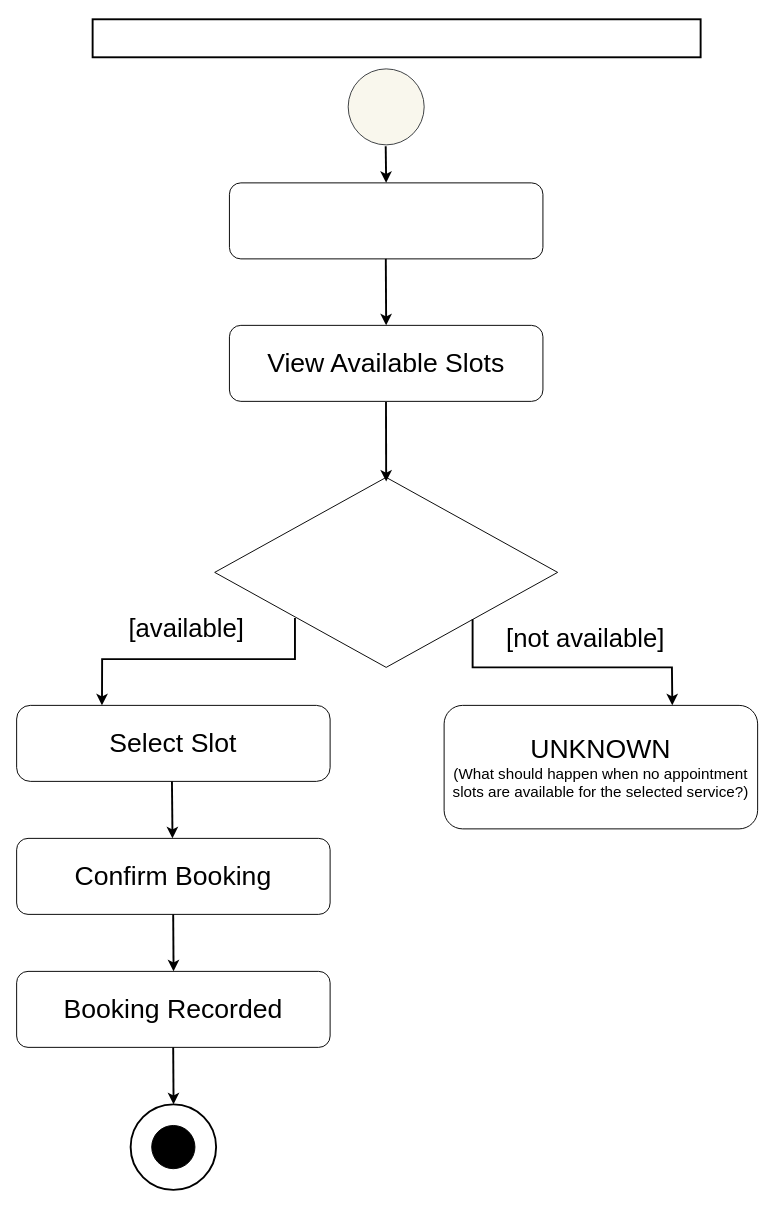
Some shapes in this 774 by 1207 pixel diagram are drawn without their labels. Here are the shapes that lost their labels. From the top down, the box of each, then its label:
(91, 18, 701, 58): College Student Support Appointment System - Book Appointment
(228, 182, 543, 259): Select Service
(214, 476, 558, 667): Is a slot available?
